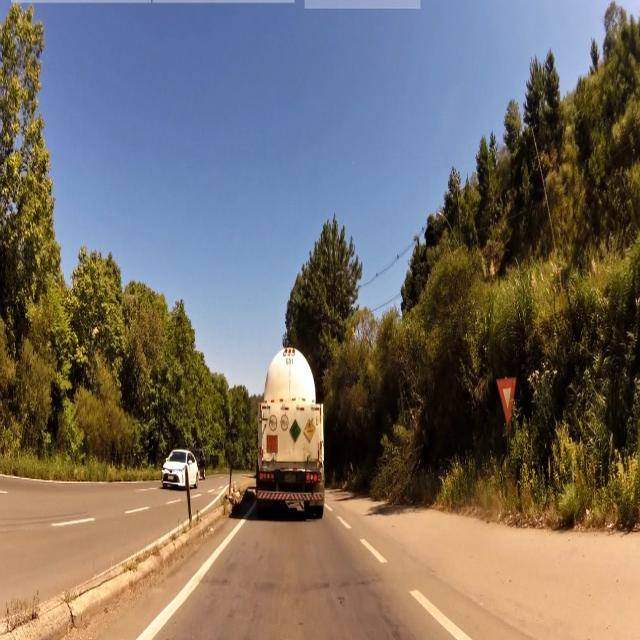R-2: (497, 372, 521, 426)
